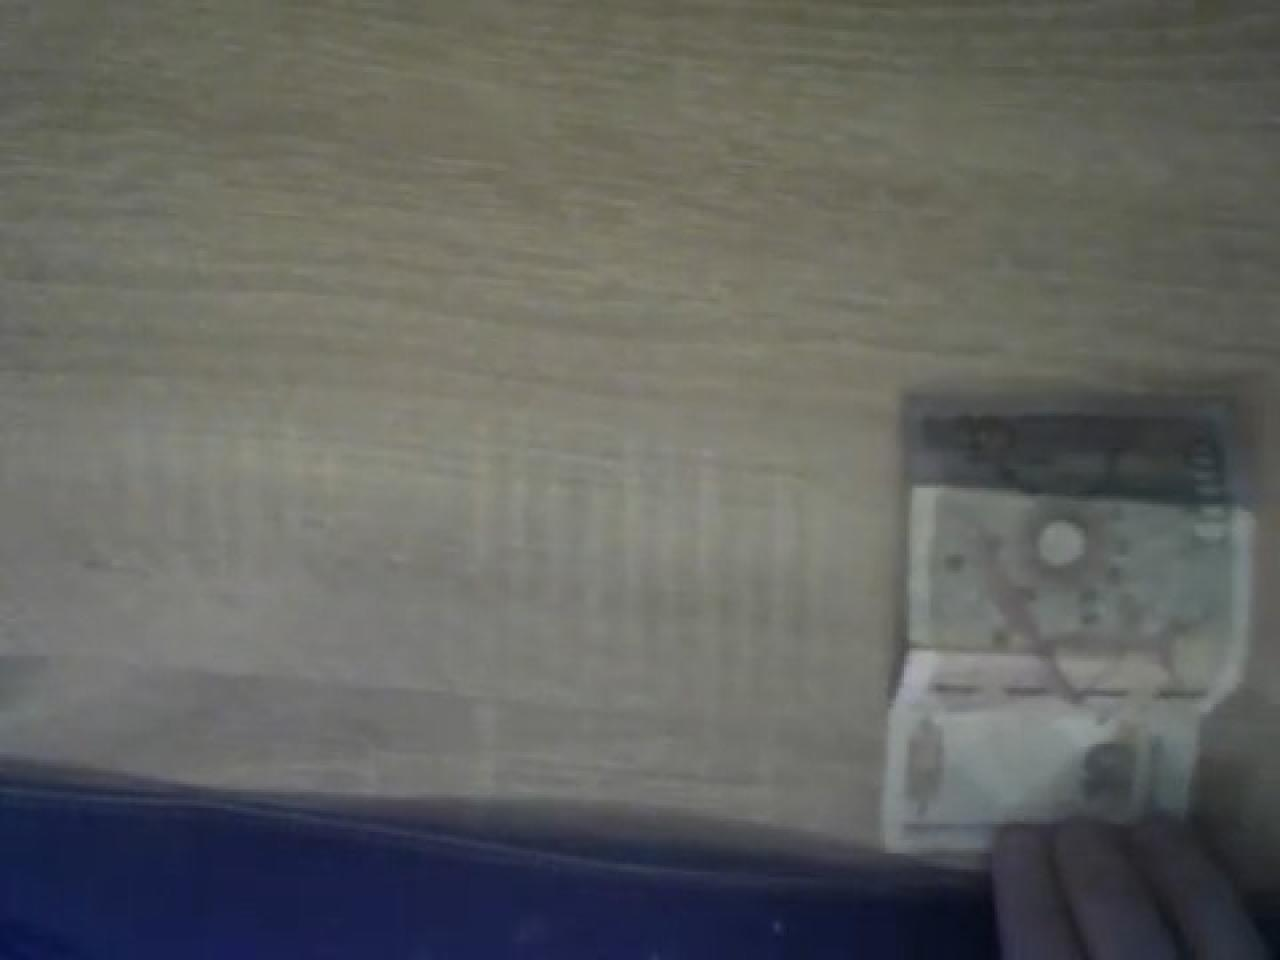10leva: (877, 394, 1256, 864)
